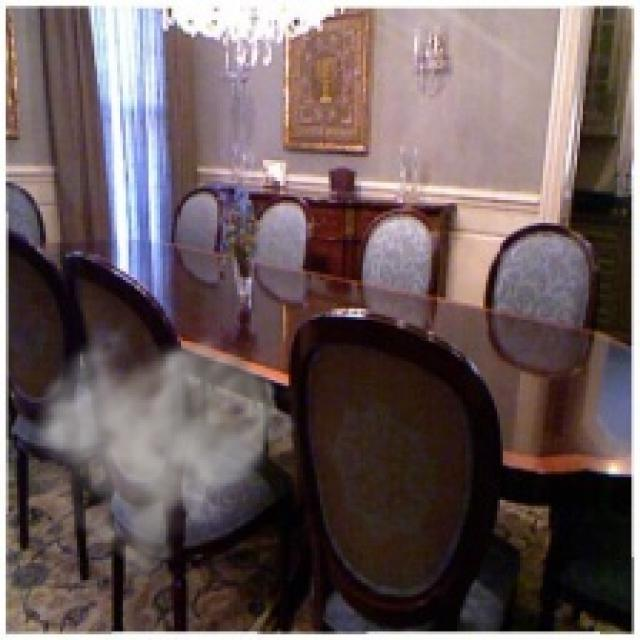Smoke: (23, 312, 300, 592)
